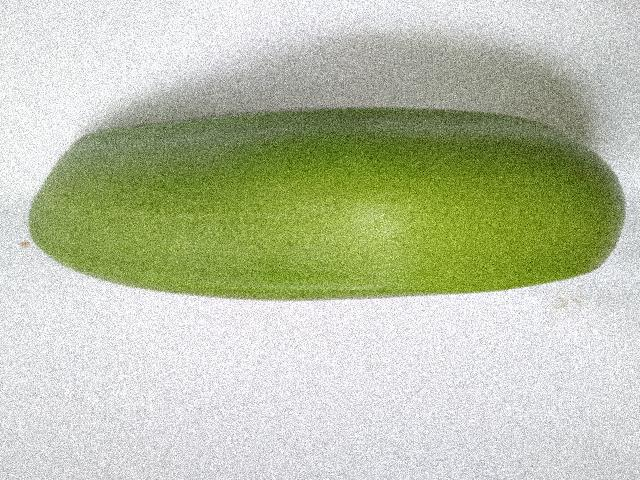freshunripe: (13, 95, 639, 312)
